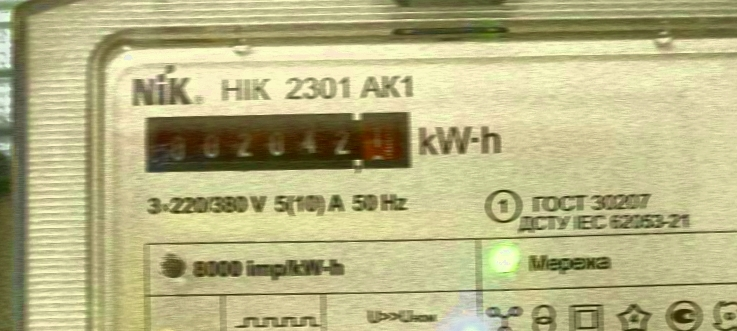0: (168, 132, 187, 162), (266, 128, 285, 158), (201, 130, 219, 161)
1: (368, 119, 383, 151)
2: (234, 130, 253, 159), (332, 126, 350, 156)
4: (299, 125, 318, 157)
screen: (140, 104, 416, 185)
